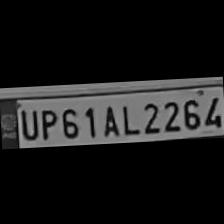1: (79, 100, 100, 138)
2: (136, 96, 160, 134), (158, 96, 180, 132)
4: (200, 92, 222, 128)
6: (57, 104, 80, 140), (178, 94, 200, 130)
A: (96, 100, 120, 136)
L: (117, 99, 138, 135)
P: (36, 104, 58, 140)
U: (17, 105, 38, 140)
